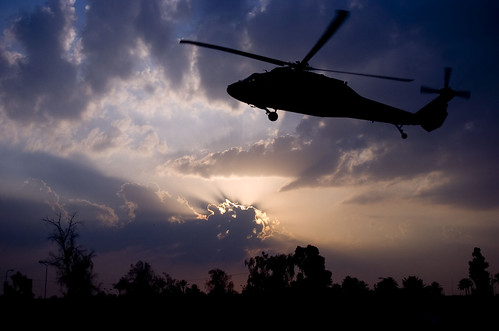helicopter: (170, 1, 469, 148)
sky: (1, 1, 476, 274)
